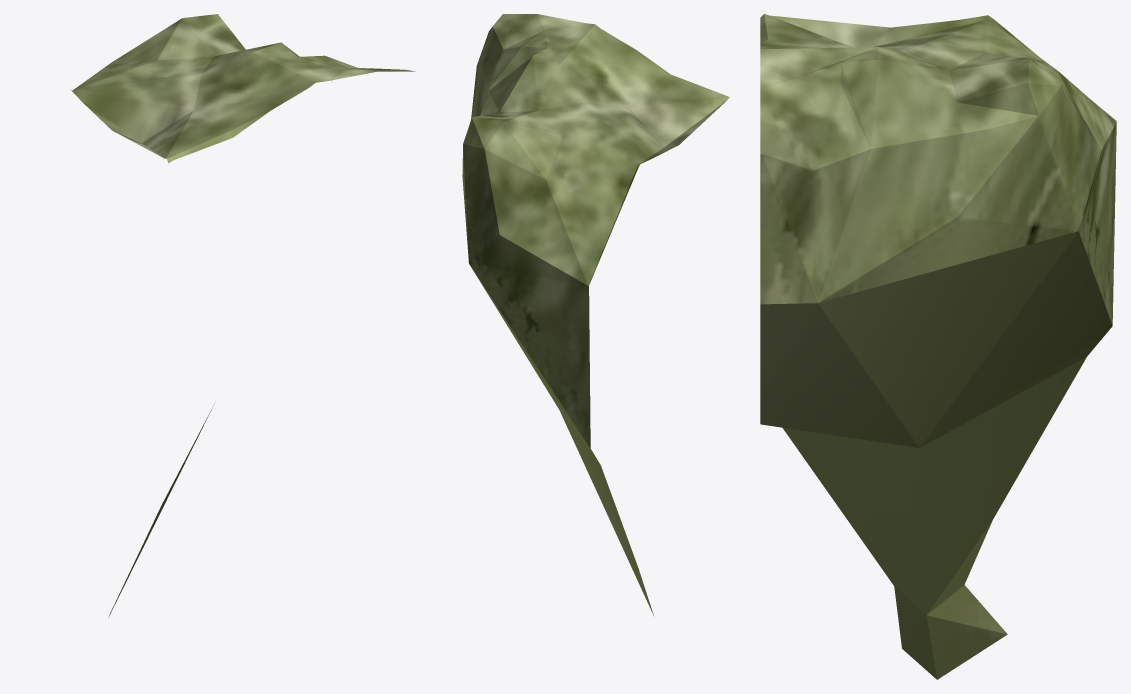
3 views of the same model, side by side, from view 1: azimuth 30°, elevation 25°; view 2: azimuth 150°, elevation 25°; view 3: azimuth 270°, elevation 25° (orthographic). The views are drawn at different scales.
Bounding box in the file's own units: 0.7379 × 1.64 × 0.7428.
Materials: 1 (1 with a texture image).
